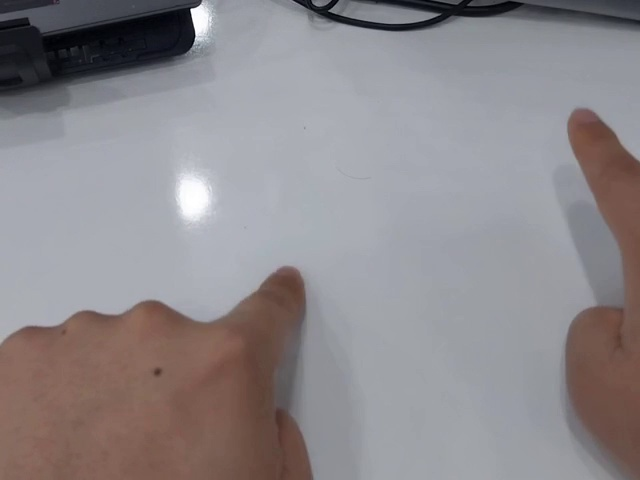fingers: (567, 106, 618, 153), (259, 263, 306, 312)
